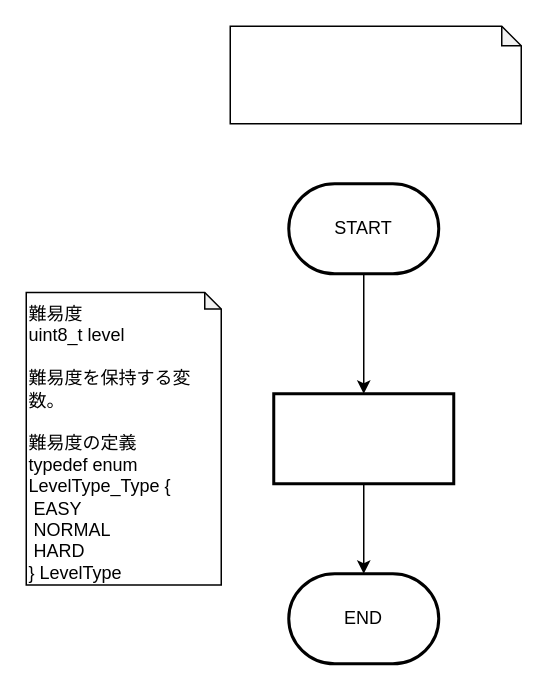
This 548x692 diagram has some shape labels left out. Each missing label, with the box of its shape:
難易度を引数(level)の値に変更する: (272, 392, 454, 484)
難易度設定関数 void SetLevel(uint8_t level) 難易度を設定する関数。: (229, 25, 521, 124)
